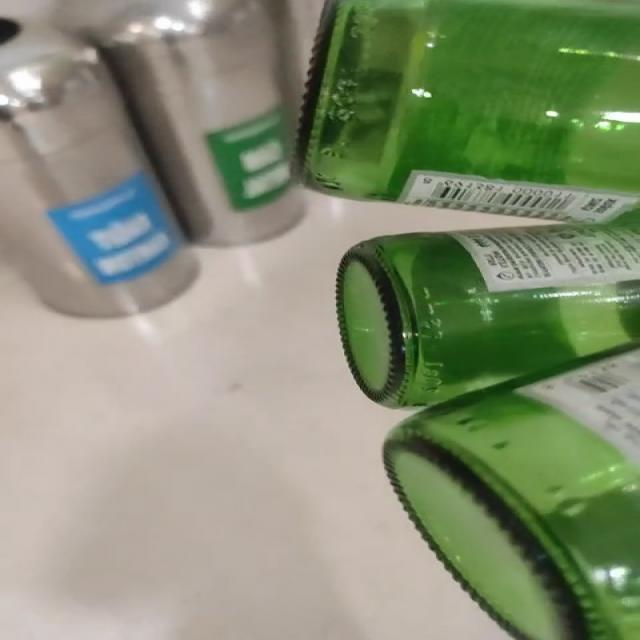glass: (300, 0, 639, 640)
